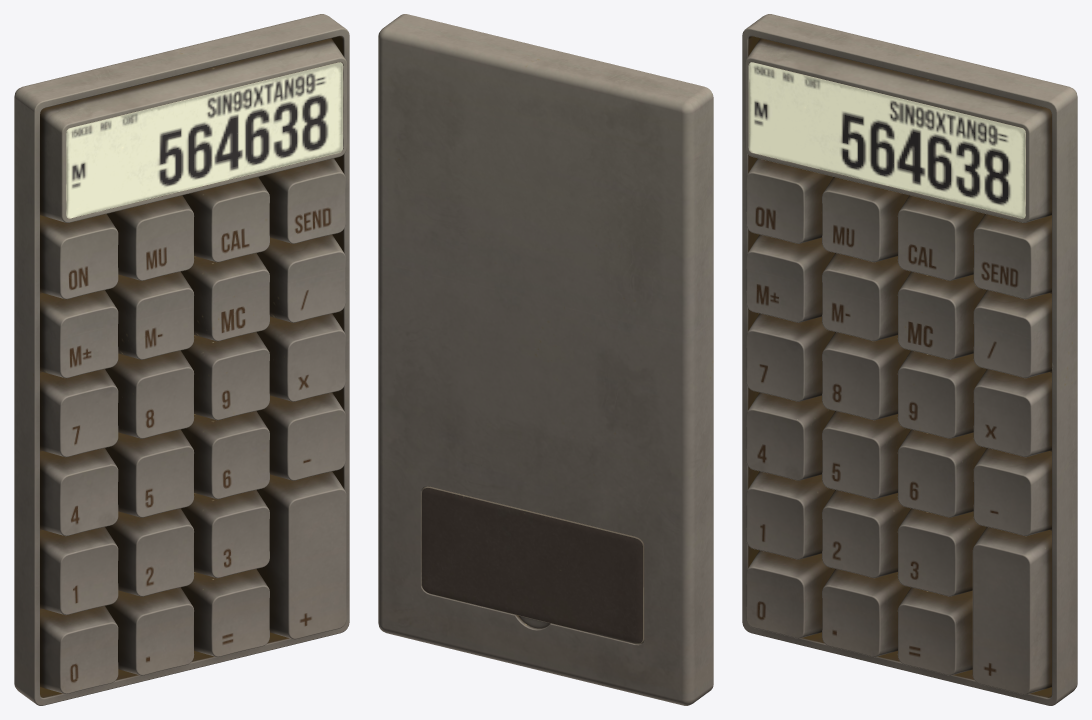
3 views of the same model, side by side, from view 1: azimuth 30°, elevation 25°; view 2: azimuth 150°, elevation 25°; view 3: azimuth 330°, elevation 25° (orthographic).
Parts seen in each view (by area): view 1: calc.001_low, calc.003_low, calc.002_low, calc.004_low; view 2: calc.003_low, calc_low; view 3: calc.001_low, calc.003_low, calc.002_low, calc.004_low.
Boxes of the visible parts, x1,y1,x2,y2 form: calc.001_low: (40,158,346,694); calc.003_low: (14,14,349,705); calc.002_low: (66,62,343,218); calc.004_low: (40,38,346,222); calc.003_low: (378,14,713,705); calc_low: (421,486,644,644); calc.001_low: (746,158,1051,694); calc.003_low: (742,14,1077,705); calc.002_low: (748,62,1025,218); calc.004_low: (745,38,1051,222).
Size of the model in its own units: 0.1041 by 0.1907 by 0.0208.
Materials: 1 (1 with a texture image).
